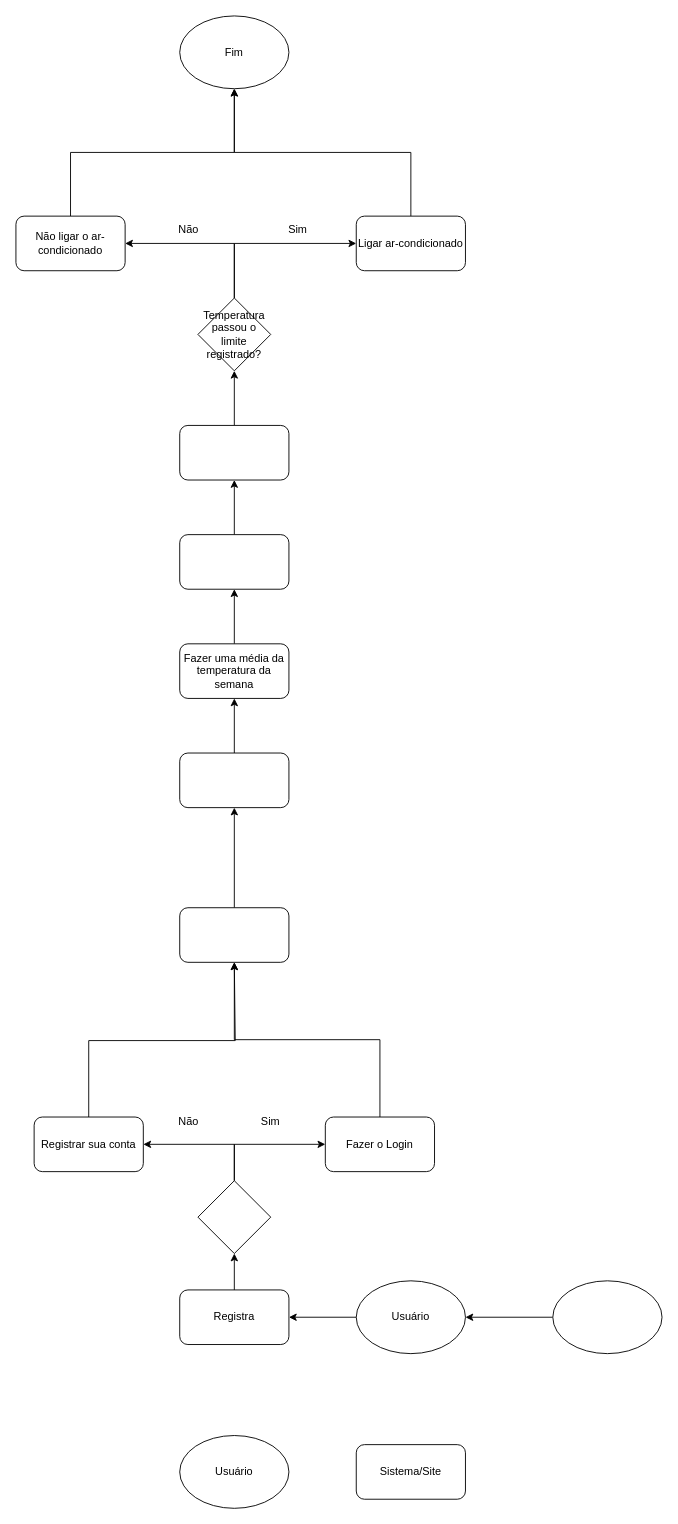
The diagram is 678 pixels wide and 1524 high, and some of its shapes have lost their labels. Each missing label, with the centre of its shape:
"Enviar para o sistema" belongs at (234,780).
"Inicio" belongs at (607,1317).
"Possui conta?" belongs at (234,1217).
"Registrar a temperatura da semana" belongs at (234,934).
"Registrar no site em quantos graus o ar-condicionado deve ser ligado" belongs at (234,452).
"Registrar temperatura" belongs at (234,561).
